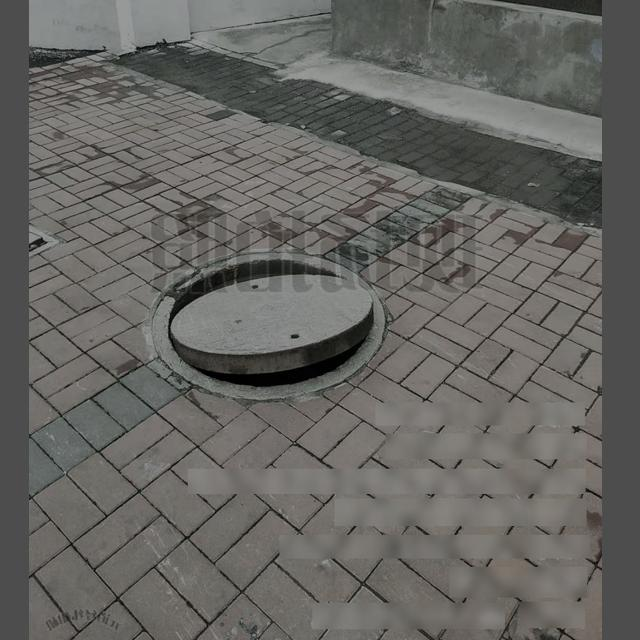uncovered: (150, 249, 386, 401)
